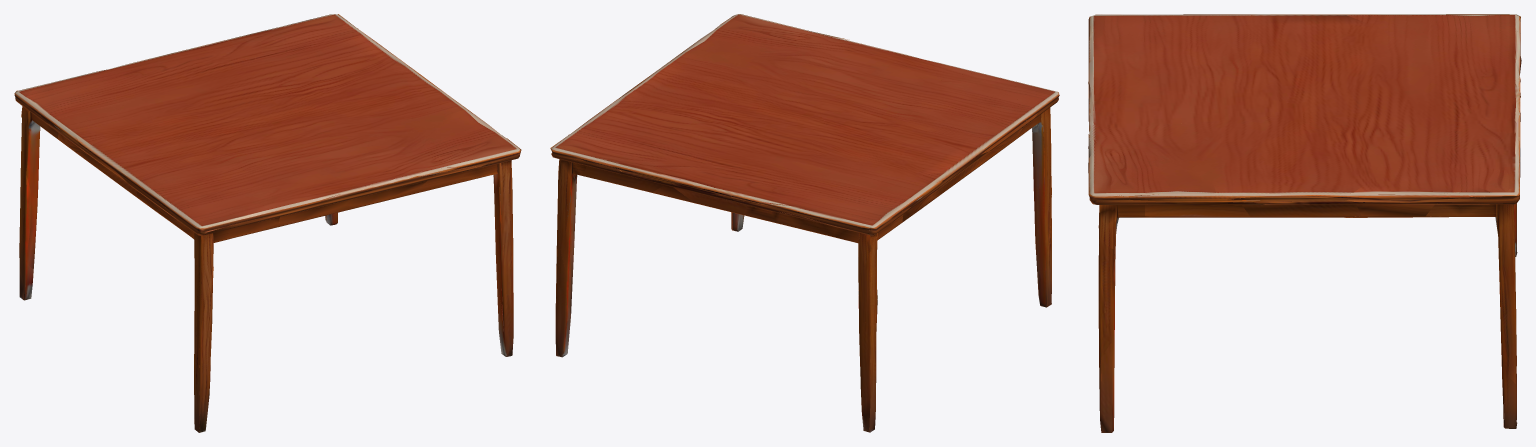
The model's file is desk-tripo.glb.
3 views of the same model, side by side, from view 1: azimuth 30°, elevation 25°; view 2: azimuth 150°, elevation 25°; view 3: azimuth 270°, elevation 25° (orthographic). The views are drawn at different scales.
Parts seen in each view (by area): view 1: tripo_node_174f7e18-5d0a-4302-a25d-0e901e187d56; view 2: tripo_node_174f7e18-5d0a-4302-a25d-0e901e187d56; view 3: tripo_node_174f7e18-5d0a-4302-a25d-0e901e187d56.
Boxes of the visible parts, left/top/right/bottom form: tripo_node_174f7e18-5d0a-4302-a25d-0e901e187d56: left=14, top=14, right=521, bottom=432; tripo_node_174f7e18-5d0a-4302-a25d-0e901e187d56: left=550, top=14, right=1059, bottom=432; tripo_node_174f7e18-5d0a-4302-a25d-0e901e187d56: left=1088, top=14, right=1521, bottom=432.
Size of the model in its own units: 1 by 0.6185 by 1.
1 material, 1 textured.
